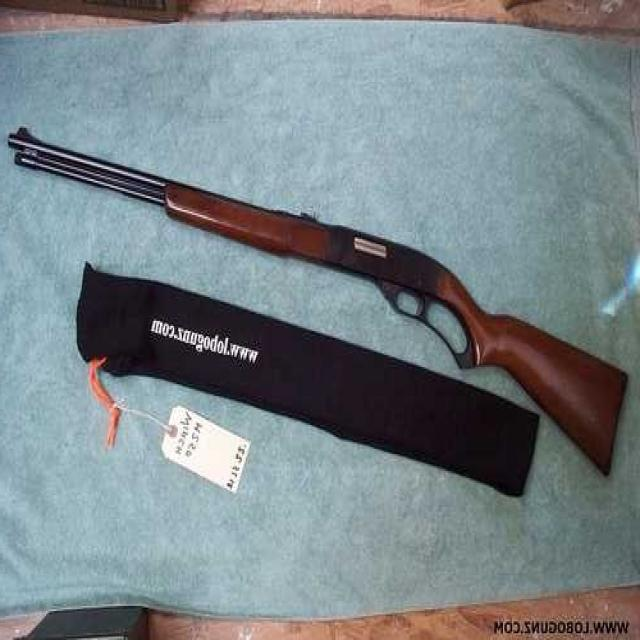heavyweapon: (1, 99, 637, 493)
